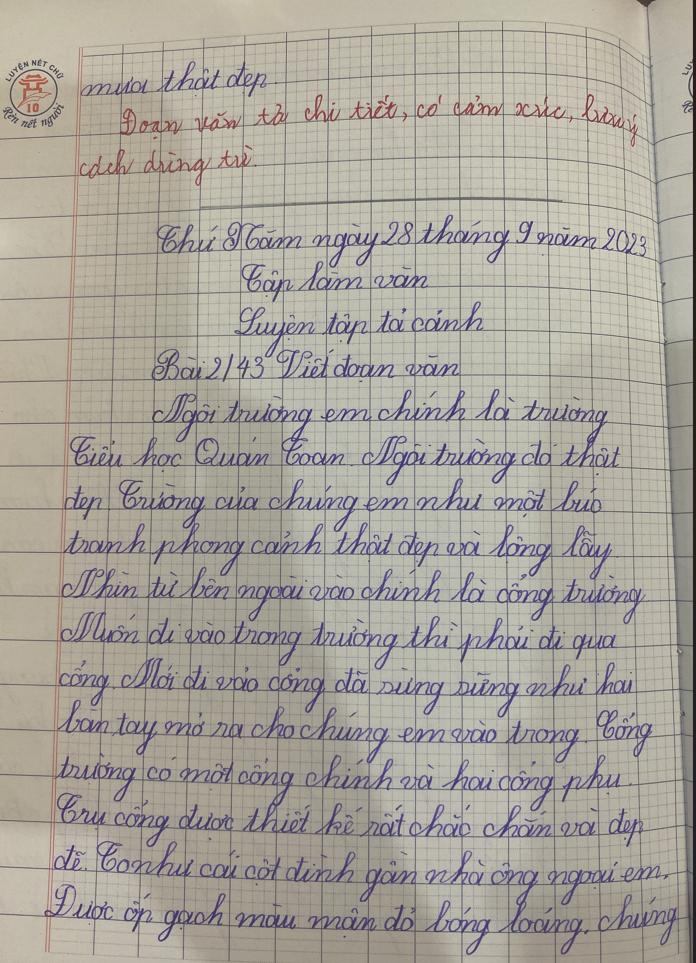text: (43, 880, 680, 959), (52, 837, 671, 910), (53, 699, 655, 768), (58, 564, 648, 628), (57, 655, 637, 719), (53, 789, 647, 851), (58, 609, 619, 674), (62, 520, 615, 581), (119, 87, 642, 151), (55, 752, 623, 810), (62, 477, 606, 537), (68, 431, 622, 487), (154, 211, 649, 272), (149, 385, 613, 446), (232, 296, 488, 360), (148, 342, 461, 388), (239, 257, 432, 308), (77, 55, 269, 102), (76, 140, 256, 190), (0, 97, 69, 134), (3, 57, 69, 84), (24, 100, 46, 114)
